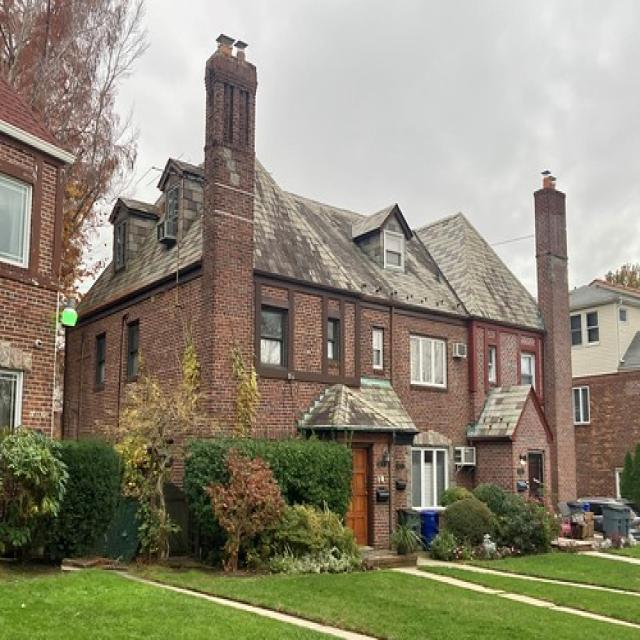building: (61, 44, 573, 572)
